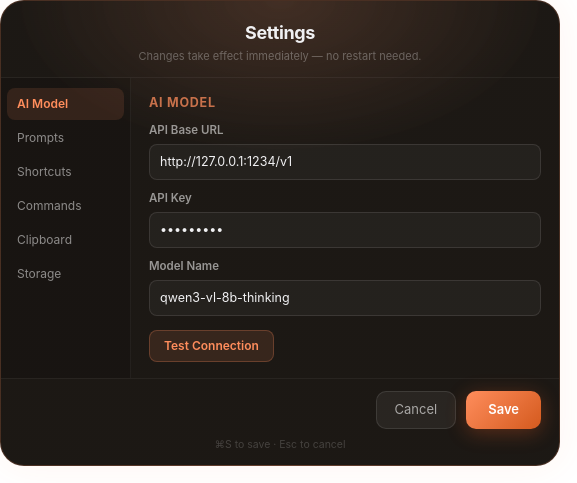
it: SettingsView › crash panel: surfaces errors from list_crash_reports
This screenshot has width=577, height=483.
Click the button with test id "settings-tab-storage": (66, 274) top-left (7, 258), bottom-right (124, 290)
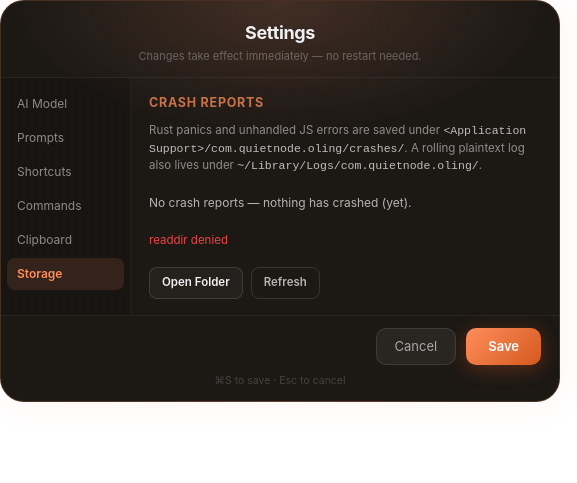
Expected: the text "readdir denied" is shown, top-left (149, 233), bottom-right (228, 247)
